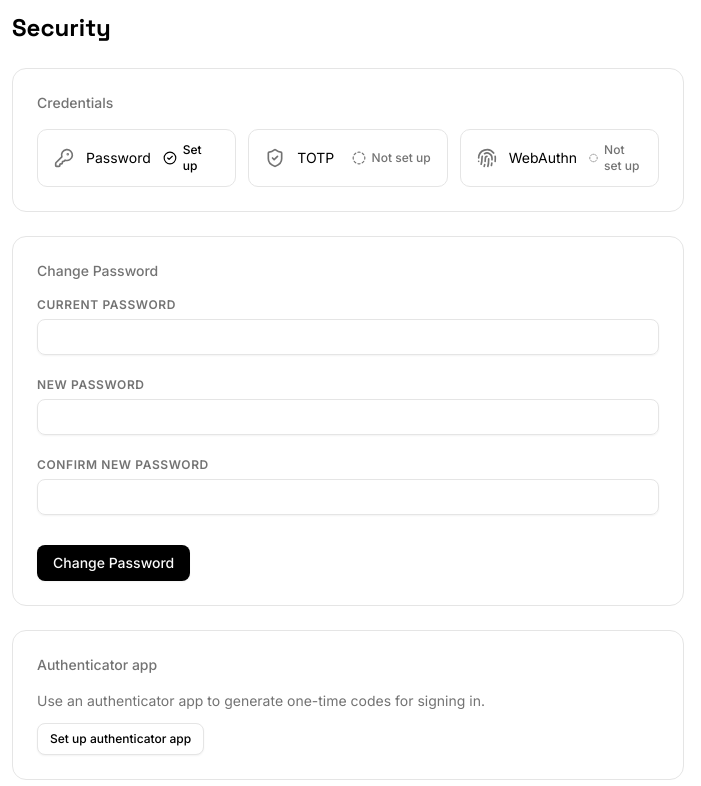
Test: PasswordPage › renders a generic server error when no policy violations are present
Expected: the text "Password" is shown, 86,148 -> 151,168
Type "wrong" into the password field labelled "Current password" at (348, 337), box 37,319 -> 659,355
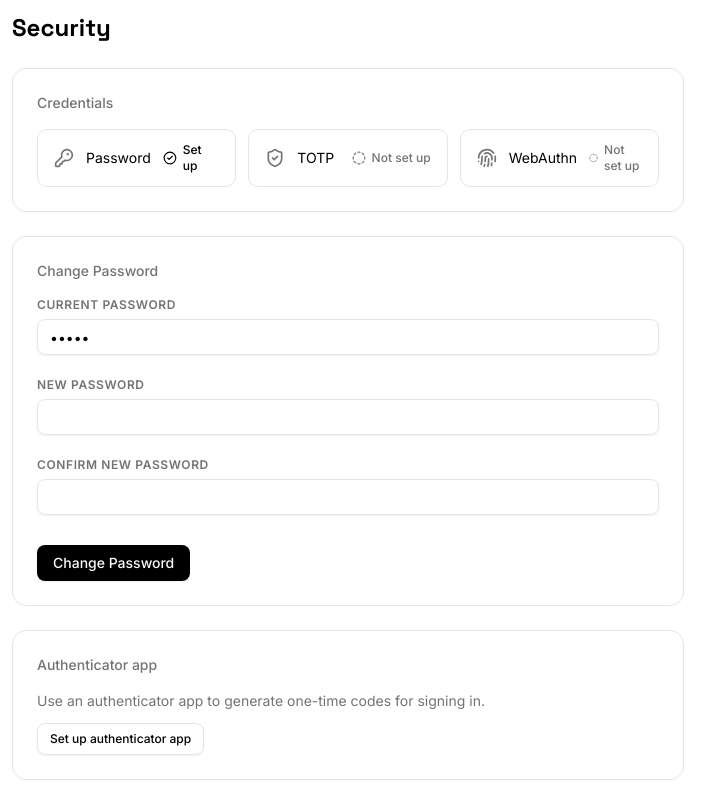
Type "new-pass" into the password field labelled "New password" at (348, 417), box 37,399 -> 659,435
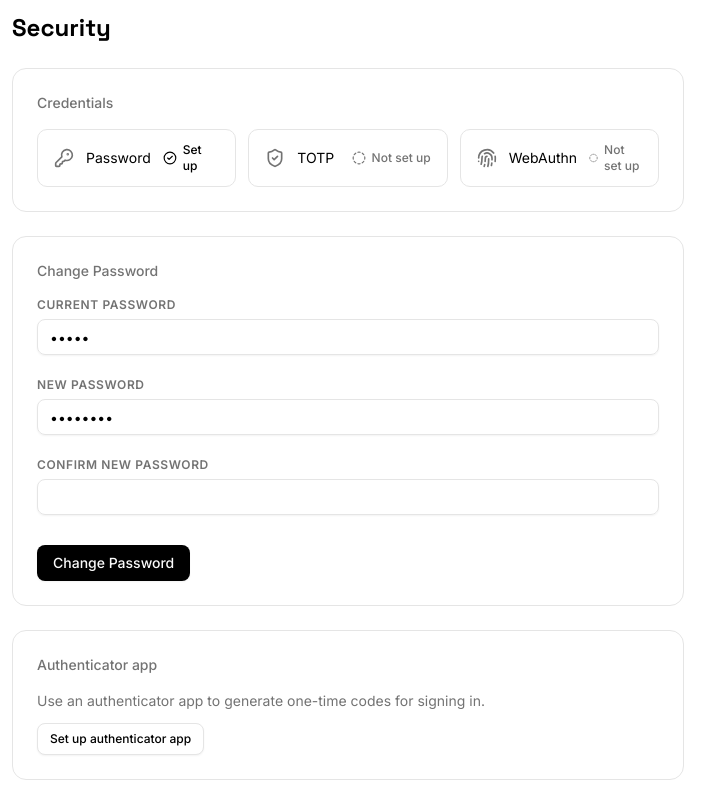
Type "new-pass" into the password field labelled "Confirm new password" at (348, 497), box 37,479 -> 659,515
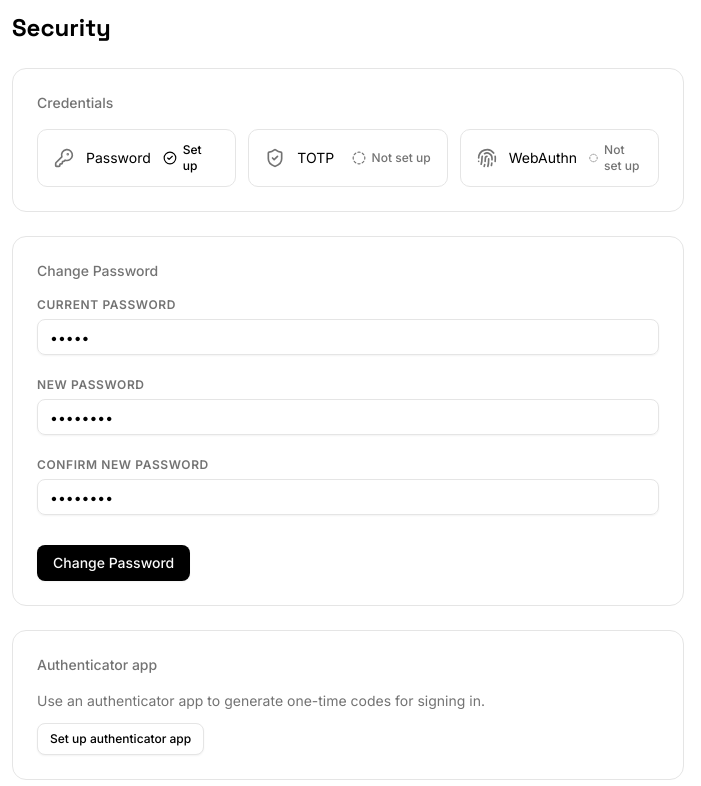
Click the button "Change Password" at (114, 563), box 37,545 -> 190,581
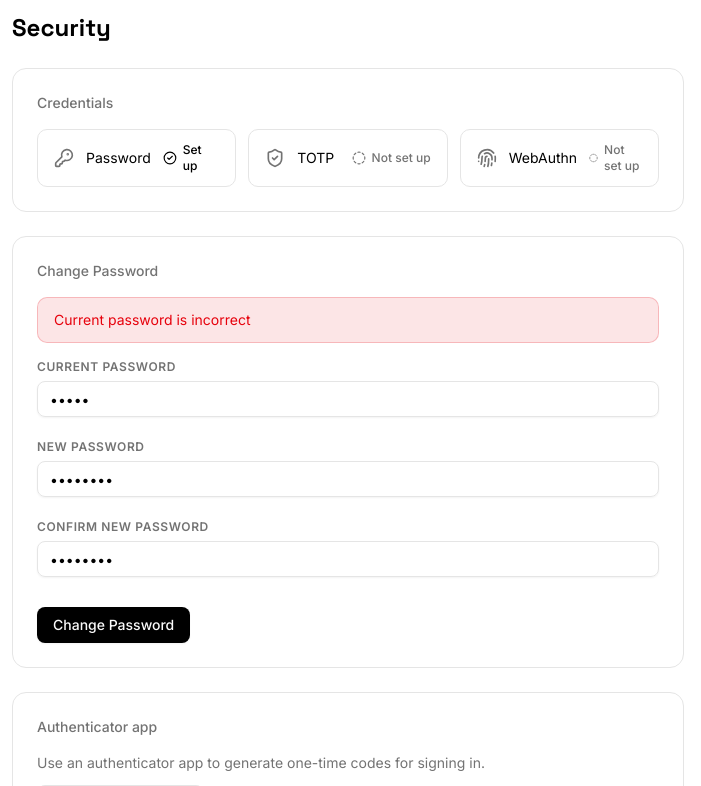
Now the text "Current password is incorrect" is shown, box 37,297 -> 659,343
